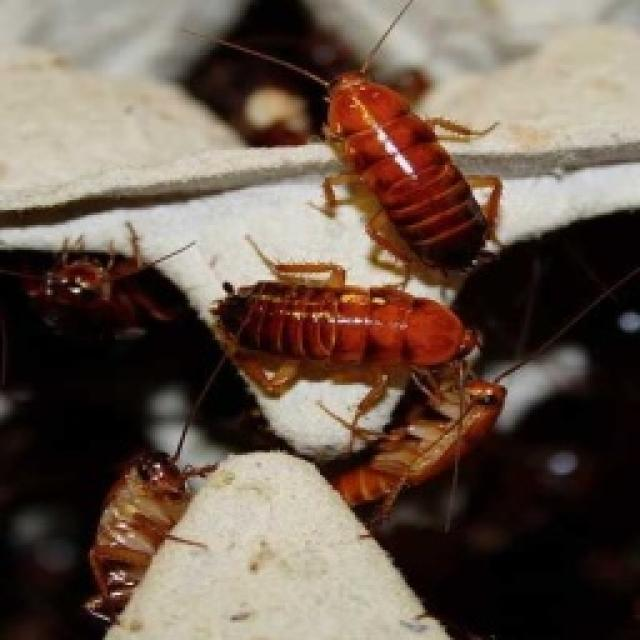cockroach: (300, 45, 532, 283), (329, 350, 540, 546), (210, 249, 490, 388), (75, 417, 241, 622), (13, 236, 193, 365)
